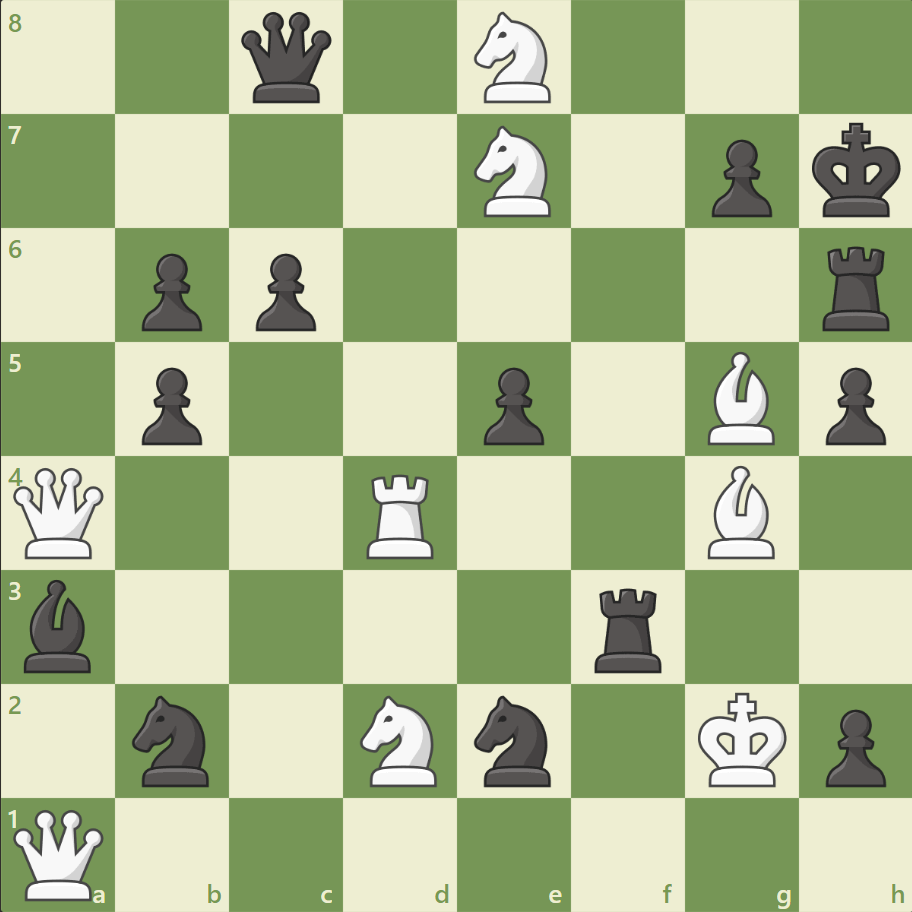B: (698, 460, 782, 563), (698, 347, 782, 449)
K: (692, 685, 792, 793)
N: (351, 688, 449, 791), (465, 7, 562, 110), (465, 121, 562, 223)
Q: (10, 463, 109, 562), (10, 804, 109, 903)
R: (360, 466, 442, 563)
b: (17, 574, 101, 676)
k: (806, 117, 906, 225)
n: (124, 688, 222, 791), (465, 688, 562, 791)
p: (701, 132, 776, 223), (133, 246, 208, 337), (247, 246, 322, 337), (133, 359, 208, 450), (474, 359, 549, 450), (815, 359, 889, 450), (815, 700, 889, 791)
q: (237, 9, 336, 108)
r: (814, 239, 897, 336), (587, 579, 670, 676)
